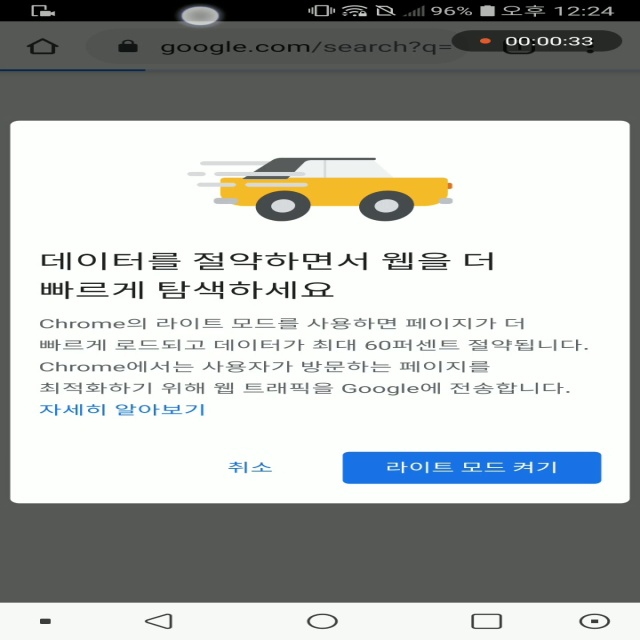Cursor: (180, 5, 224, 28)
